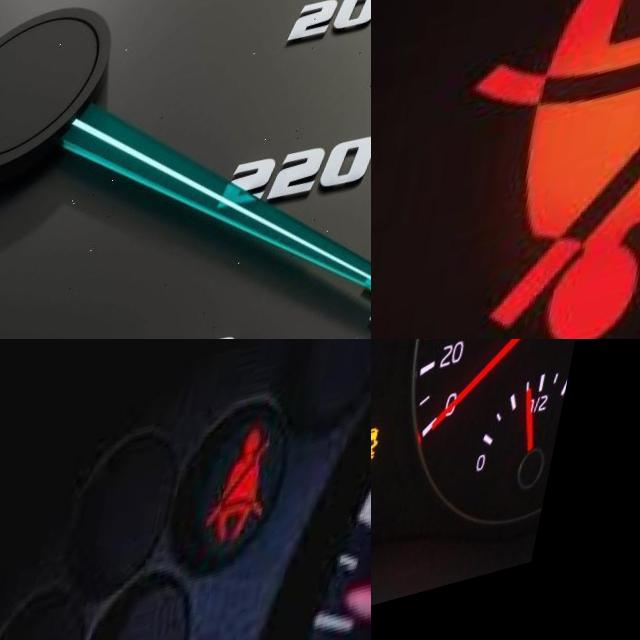Seat Belt: (440, 0, 640, 339), (214, 443, 291, 564)
